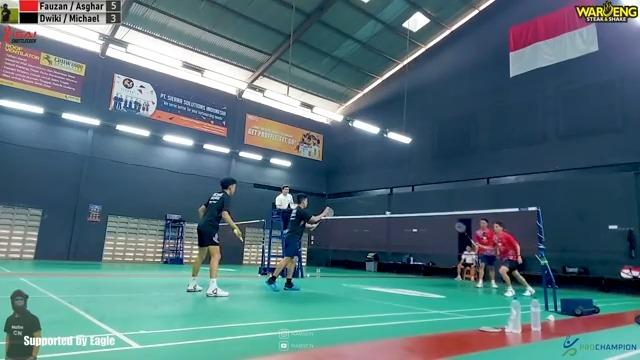Shuttlecock: (384, 210, 394, 218)
